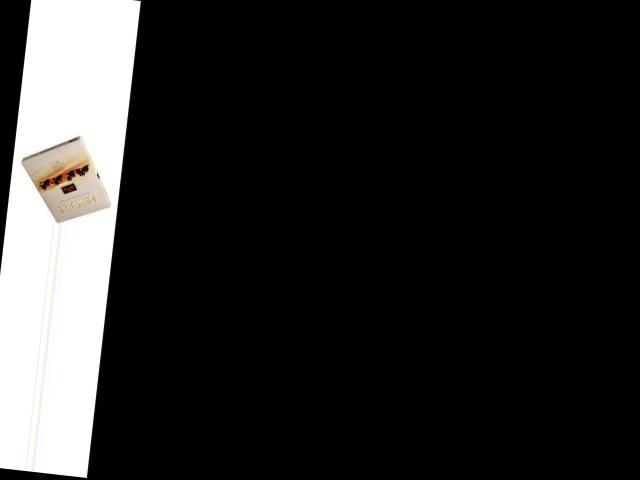chocolate: (7, 127, 118, 227)
